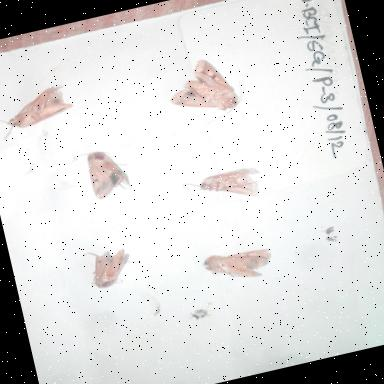abw: (154, 47, 251, 130), (60, 138, 143, 210), (176, 156, 272, 218), (0, 77, 83, 147), (194, 236, 283, 296), (76, 233, 150, 299)
